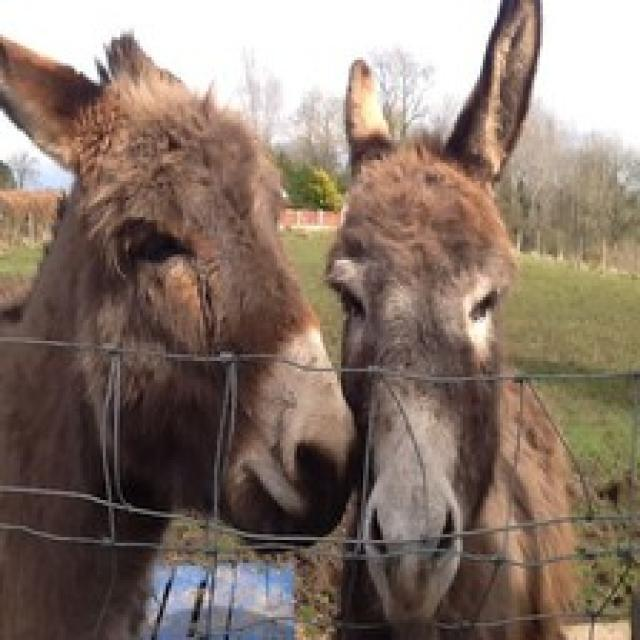Donkey: (0, 22, 357, 638), (321, 0, 588, 637)
